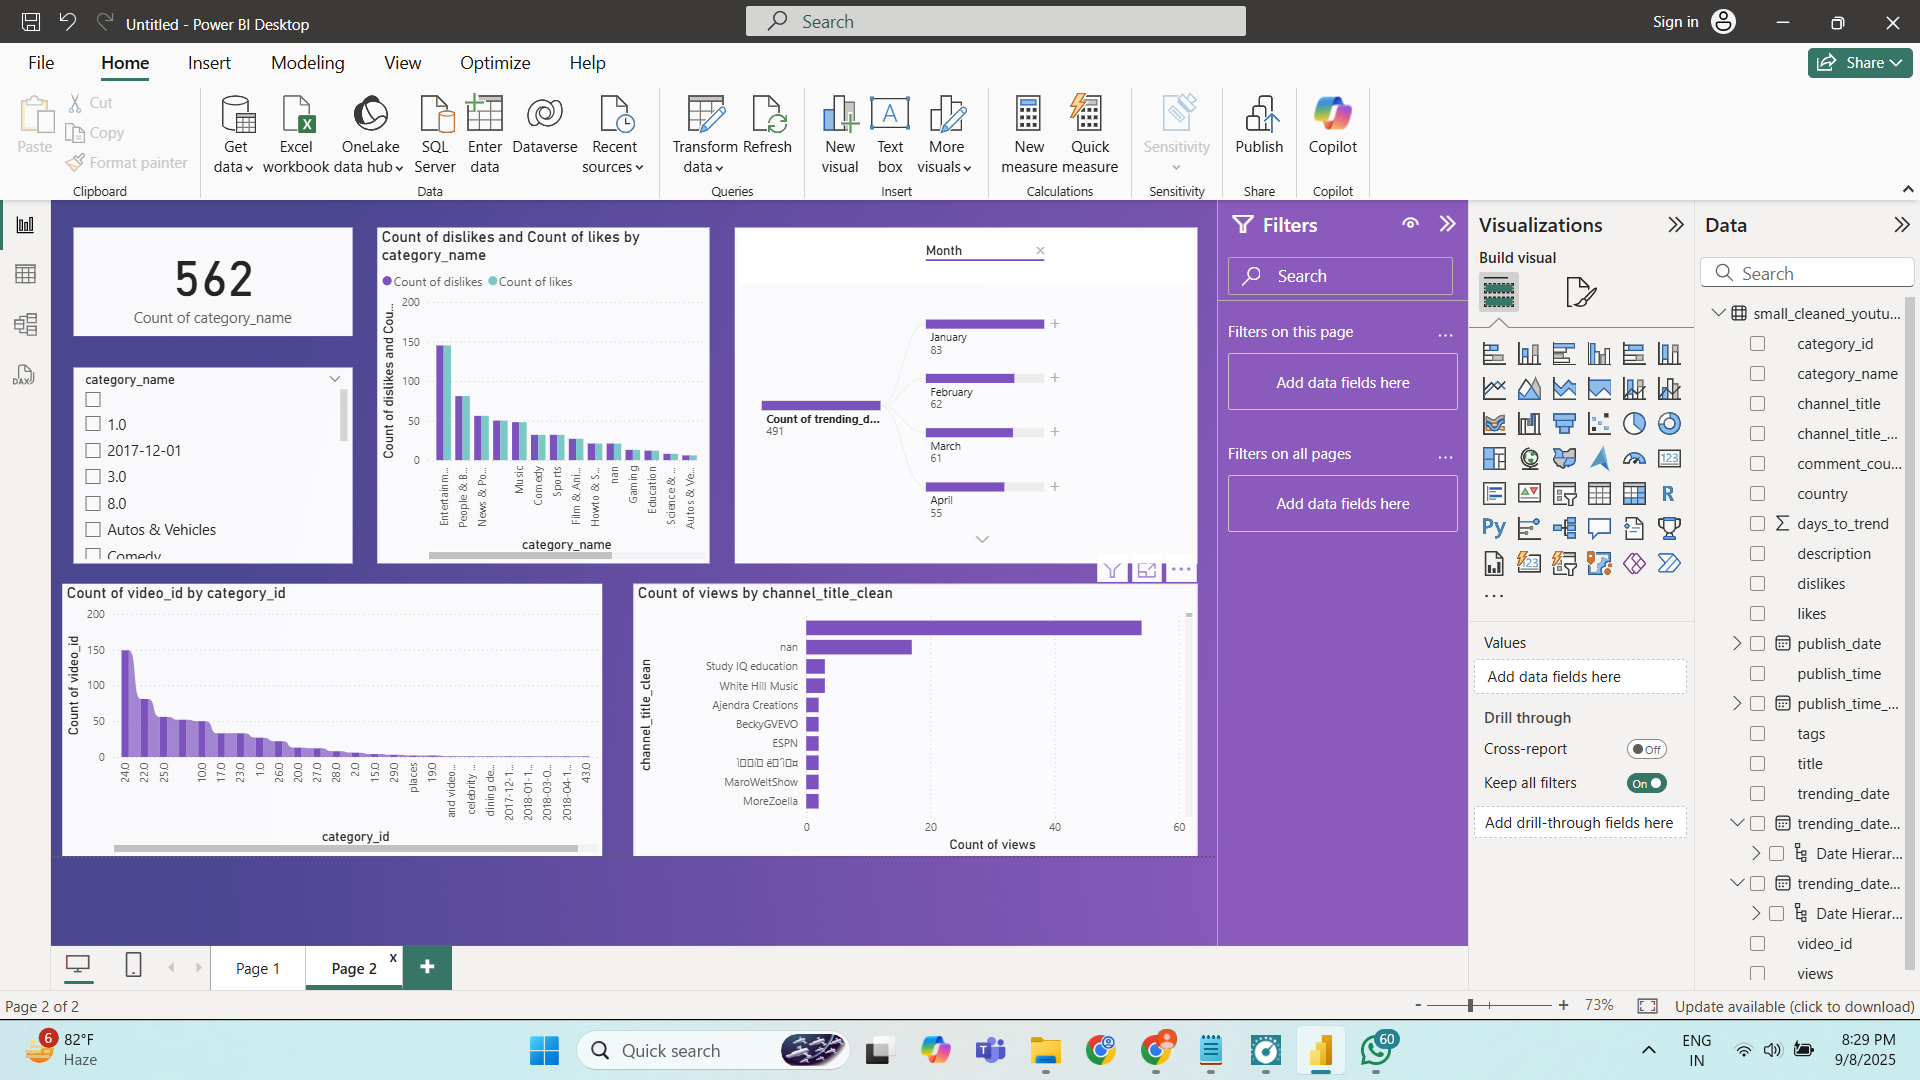

The page's visual inventory and layout, read from the dashboard file:
{"tool":"powerbi","page":{"name":"Page 2","canvas":[1280,720],"ordinal":1},"visuals":[{"type":"clusteredColumnChart","fields":{"Category":["small_cleaned_youtube_trending_powerbi_ready_fixed.category_name"],"Y":["small_cleaned_youtube_trending_powerbi_ready_fixed.dislikes","small_cleaned_youtube_trending_powerbi_ready_fixed.likes"]},"box":[358.1,30.2,365,369.1],"z":0},{"type":"barChart","fields":{"Y":["small_cleaned_youtube_trending_powerbi_ready_fixed.views"],"Category":["small_cleaned_youtube_trending_powerbi_ready_fixed.channel_title_clean"]},"box":[639.5,421.3,618.9,299.1],"z":1},{"type":"card","fields":{"Values":["small_cleaned_youtube_trending_powerbi_ready_fixed.category_name"]},"box":[24.7,30.2,306,119.4],"z":2},{"type":"decompositionTreeVisual","fields":{"Analyze":["small_cleaned_youtube_trending_powerbi_ready_fixed.trending_date_parsed"],"ExplainBy":["small_cleaned_youtube_trending_powerbi_ready_fixed.trending_date_parsed.Variation.Date Hierarchy.Month","small_cleaned_youtube_trending_powerbi_ready_fixed.trending_date_parsed.Variation.Date Hierarchy.Day","small_cleaned_youtube_trending_powerbi_ready_fixed.trending_date_parsed.Variation.Date Hierarchy.Year","small_cleaned_youtube_trending_powerbi_ready_fixed.trending_date_parsed.Variation.Date Hierarchy.Quarter"]},"box":[750.6,30.2,507.7,369.1],"z":3},{"type":"slicer","fields":{"Values":["small_cleaned_youtube_trending_powerbi_ready_fixed.category_name"]},"box":[24.7,183.9,306,215.4],"z":4},{"type":"ribbonChart","fields":{"Category":["small_cleaned_youtube_trending_powerbi_ready_fixed.category_id"],"Y":["small_cleaned_youtube_trending_powerbi_ready_fixed.video_id"]},"box":[12.3,421.3,592.8,299.1],"z":5}]}

Visuals, with their boxes on the page's 1280x720 design canvas (x1, y1, x2, y2). These are canvas units, not pixel positions in the 1920x1080 screenshot, which may show the page scaled, cropped or inside an application window:
clusteredColumnChart - small_cleaned_youtube_trending_powerbi_ready_fixed.category_name x small_cleaned_youtube_trending_powerbi_ready_fixed.dislikes: detection(358, 30, 723, 399)
barChart - small_cleaned_youtube_trending_powerbi_ready_fixed.views x small_cleaned_youtube_trending_powerbi_ready_fixed.channel_title_clean: detection(640, 421, 1258, 720)
card - small_cleaned_youtube_trending_powerbi_ready_fixed.category_name: detection(25, 30, 331, 150)
decompositionTreeVisual - small_cleaned_youtube_trending_powerbi_ready_fixed.trending_date_parsed x small_cleaned_youtube_trending_powerbi_ready_fixed.trending_date_parsed.Variation.Date Hierarchy.Month: detection(751, 30, 1258, 399)
slicer - small_cleaned_youtube_trending_powerbi_ready_fixed.category_name: detection(25, 184, 331, 399)
ribbonChart - small_cleaned_youtube_trending_powerbi_ready_fixed.category_id x small_cleaned_youtube_trending_powerbi_ready_fixed.video_id: detection(12, 421, 605, 720)
